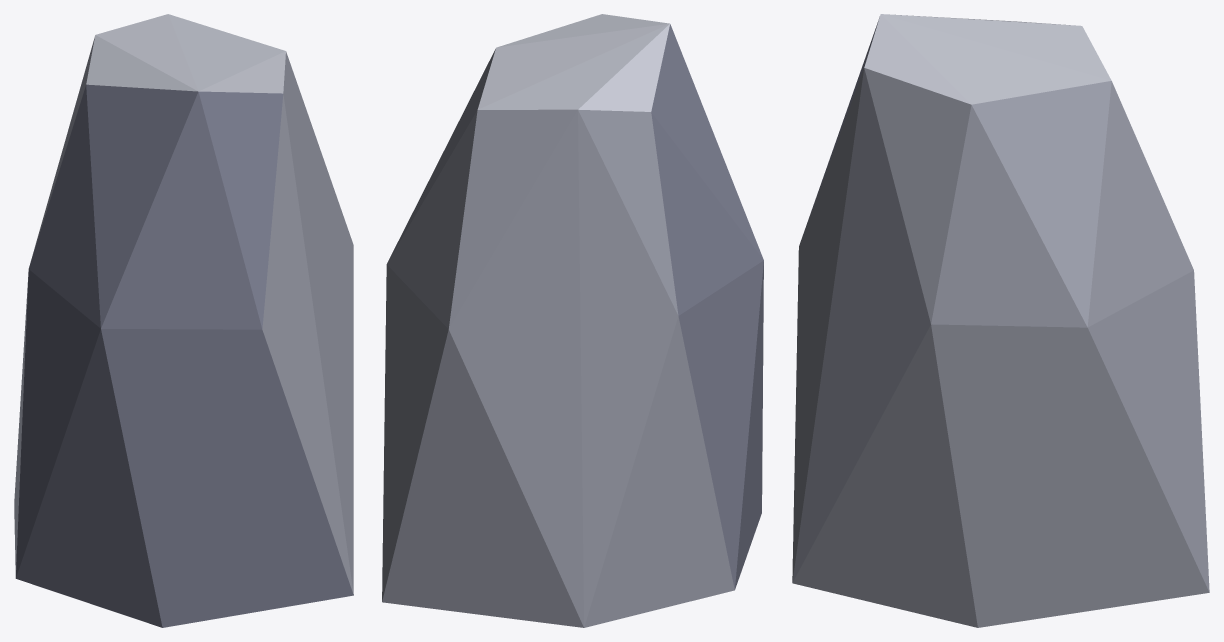
File: stone_tallF.glb
3 views of the same model, side by side, from view 1: azimuth 30°, elevation 25°; view 2: azimuth 150°, elevation 25°; view 3: azimuth 270°, elevation 25° (orthographic). The views are drawn at different scales.
Parts seen in each view (by area): view 1: stone_tallF; view 2: stone_tallF; view 3: stone_tallF.
Boxes of the visible parts, x1,y1,x2,y2 form: stone_tallF: [14, 14, 353, 627]; stone_tallF: [382, 14, 763, 627]; stone_tallF: [792, 14, 1209, 627].
Bounding box in the file's own units: 0.3745 × 0.5498 × 0.4052.
1 material, 1 textured.
